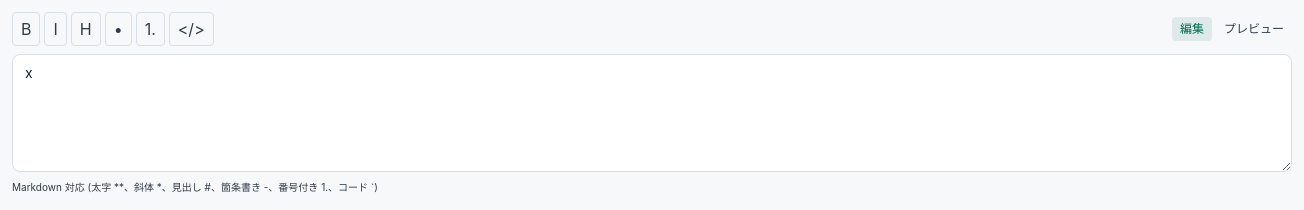
Test: MarkdownEditor › プレビュー中もツールバーは無効化される (書式挿入不可)
Step 1. Click the button "プレビュー" → [1254, 29], box [1216, 17, 1292, 41]
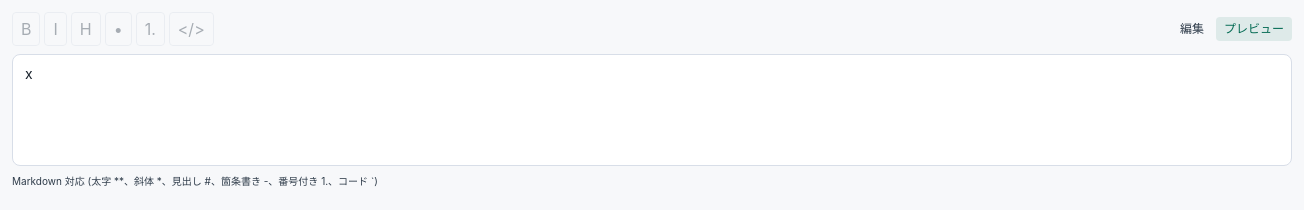
expect the button named "太字" is disabled: met, box [12, 12, 40, 46]
